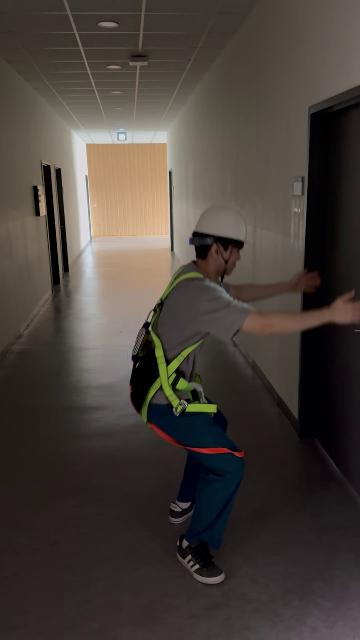helmet_worn: (190, 204, 249, 245)
shoe_not_worn: (176, 534, 225, 584), (168, 498, 195, 524)
vest_worn: (130, 266, 234, 449)
